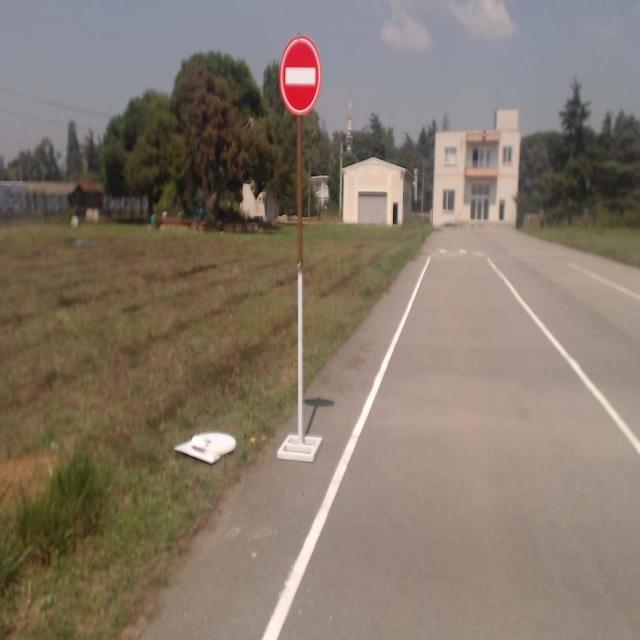girisyok: (281, 38, 321, 118)
